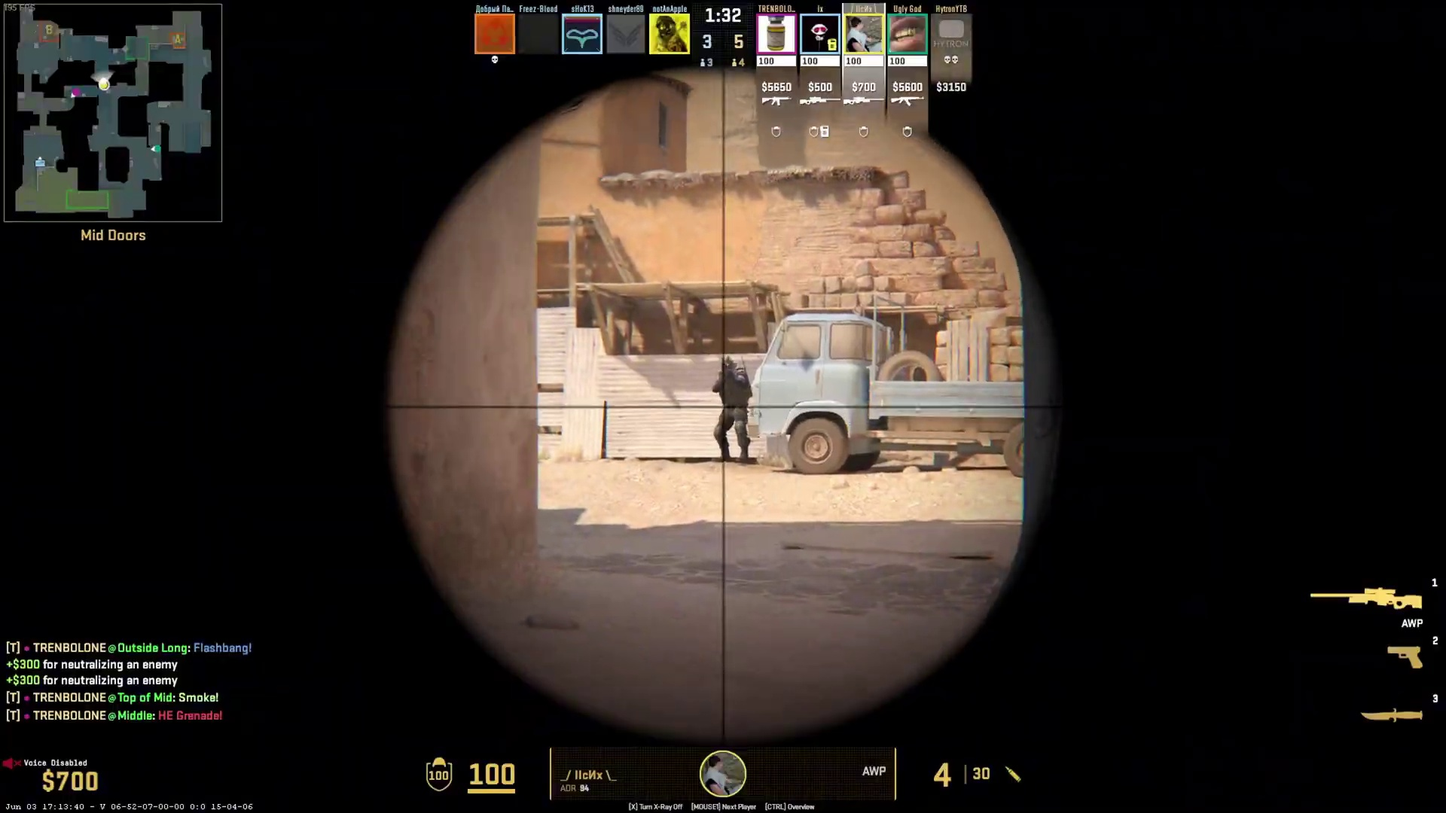CT: (718, 356, 749, 464)
